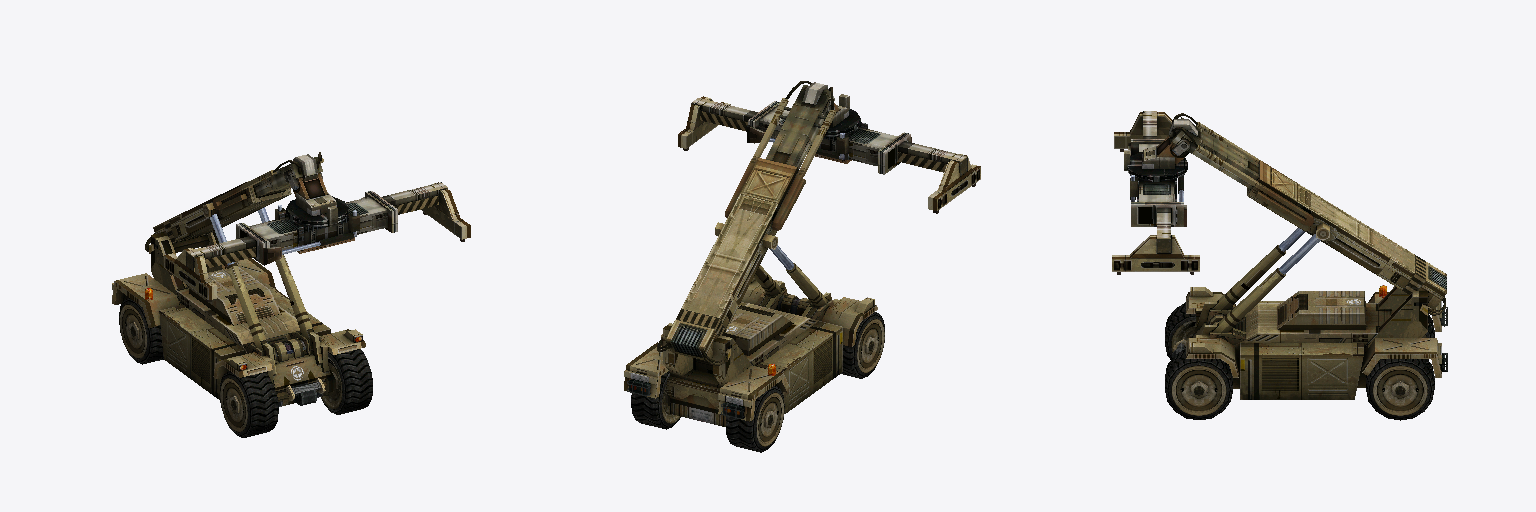
3 views of the same model, side by side, from view 1: azimuth 30°, elevation 25°; view 2: azimuth 150°, elevation 25°; view 3: azimuth 270°, elevation 25° (orthographic).
Visible parts, largest first — view 1: polygon0, polygon6, polygon7, polygon5, polygon3; view 2: polygon0, polygon6, polygon7, polygon5; view 3: polygon0, polygon7, polygon6, polygon3.
Boxes of the visible parts, <box> form: polygon0: <box>112,152,470,406</box>; polygon6: <box>119,298,372,437</box>; polygon7: <box>119,304,342,432</box>; polygon5: <box>286,378,325,405</box>; polygon3: <box>210,205,356,265</box>; polygon0: <box>624,81,980,426</box>; polygon6: <box>631,312,884,452</box>; polygon7: <box>662,318,884,446</box>; polygon5: <box>627,379,744,418</box>; polygon0: <box>1112,111,1446,399</box>; polygon7: <box>1171,320,1428,415</box>; polygon6: <box>1165,302,1434,420</box>; polygon3: <box>1131,175,1320,274</box>.
Size of the model in its own units: 7.26 by 7.17 by 8.08.
8 materials, 3 textured.